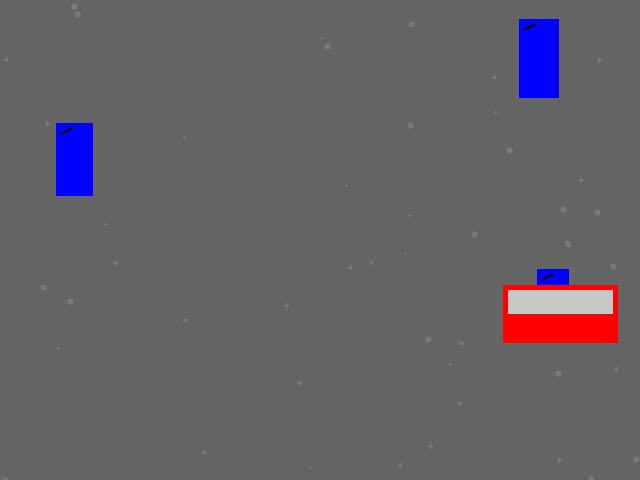car: (503, 285, 617, 342)
motorcycle: (519, 19, 558, 97), (56, 123, 92, 195), (537, 269, 568, 331)
